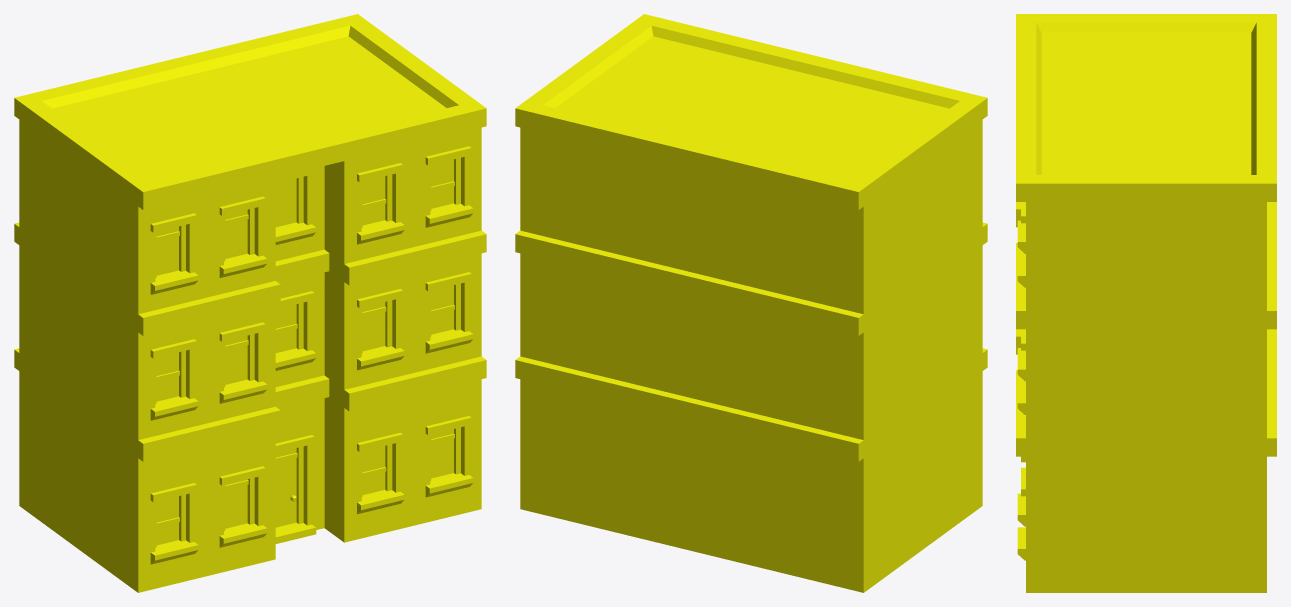
The model's file is kaykit-building-f-withoutbase.glb.
3 views of the same model, side by side, from view 1: azimuth 30°, elevation 25°; view 2: azimuth 150°, elevation 25°; view 3: azimuth 270°, elevation 25° (orthographic).
Visible parts, largest first — view 1: building_F_withoutBase; view 2: building_F_withoutBase; view 3: building_F_withoutBase.
Boxes of the visible parts, x1=… form: building_F_withoutBase: x1=14, y1=14, x2=486, y2=592; building_F_withoutBase: x1=515, y1=14, x2=987, y2=592; building_F_withoutBase: x1=1016, y1=14, x2=1276, y2=592.
Bounding box in the file's own units: 2.01 × 2.25 × 1.3.
